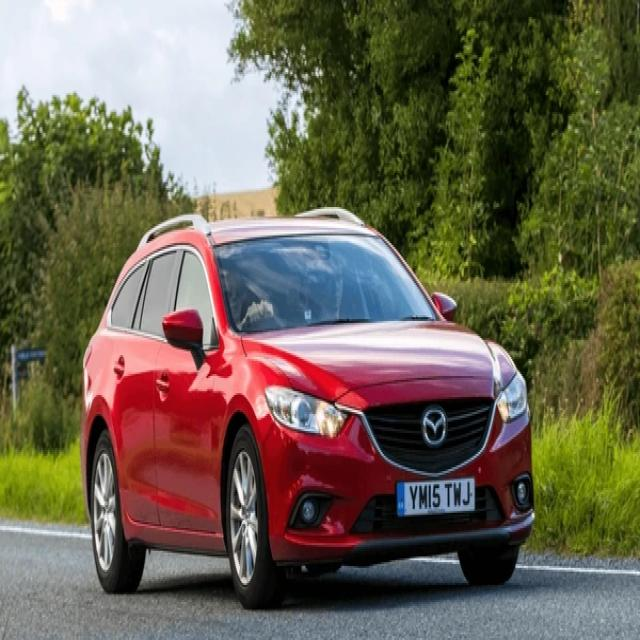mazda: (422, 404, 448, 450)
